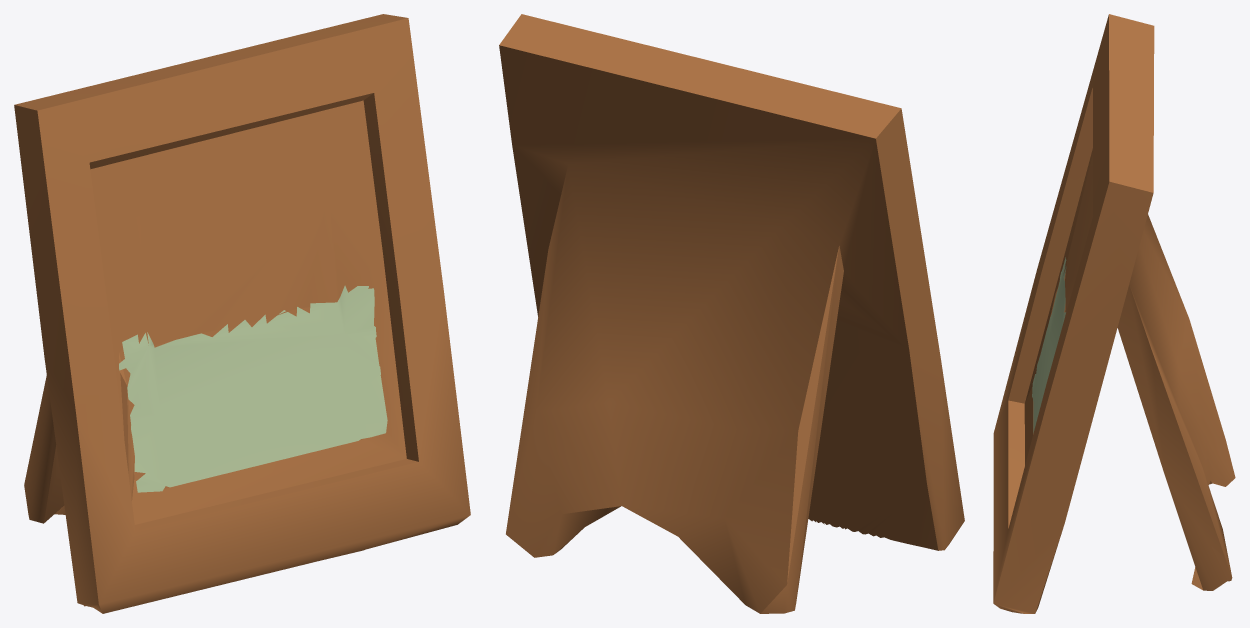
File: frame.glb
3 views of the same model, side by side, from view 1: azimuth 30°, elevation 25°; view 2: azimuth 150°, elevation 25°; view 3: azimuth 270°, elevation 25° (orthographic). The views are drawn at different scales.
Parts seen in each view (by area): view 1: frame_wood, frame_picture; view 2: frame_wood; view 3: frame_wood, frame_picture.
Boxes of the visible parts, <box> form: frame_wood: <box>14,14,470,613</box>; frame_picture: <box>119,285,387,492</box>; frame_wood: <box>499,14,964,613</box>; frame_wood: <box>993,14,1235,613</box>; frame_picture: <box>1032,257,1066,433</box>.
Bounding box in the file's own units: 0.2182 × 0.2602 × 0.1313.
